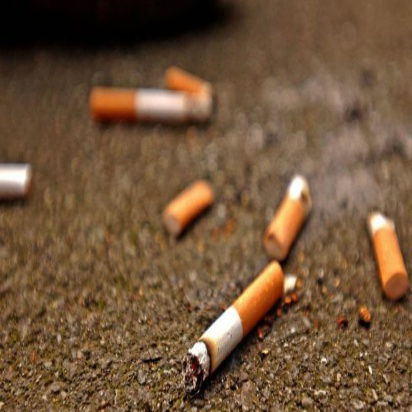cigarette: (175, 259, 293, 395), (262, 171, 322, 260), (86, 86, 194, 134), (358, 203, 409, 300), (152, 183, 223, 239)
